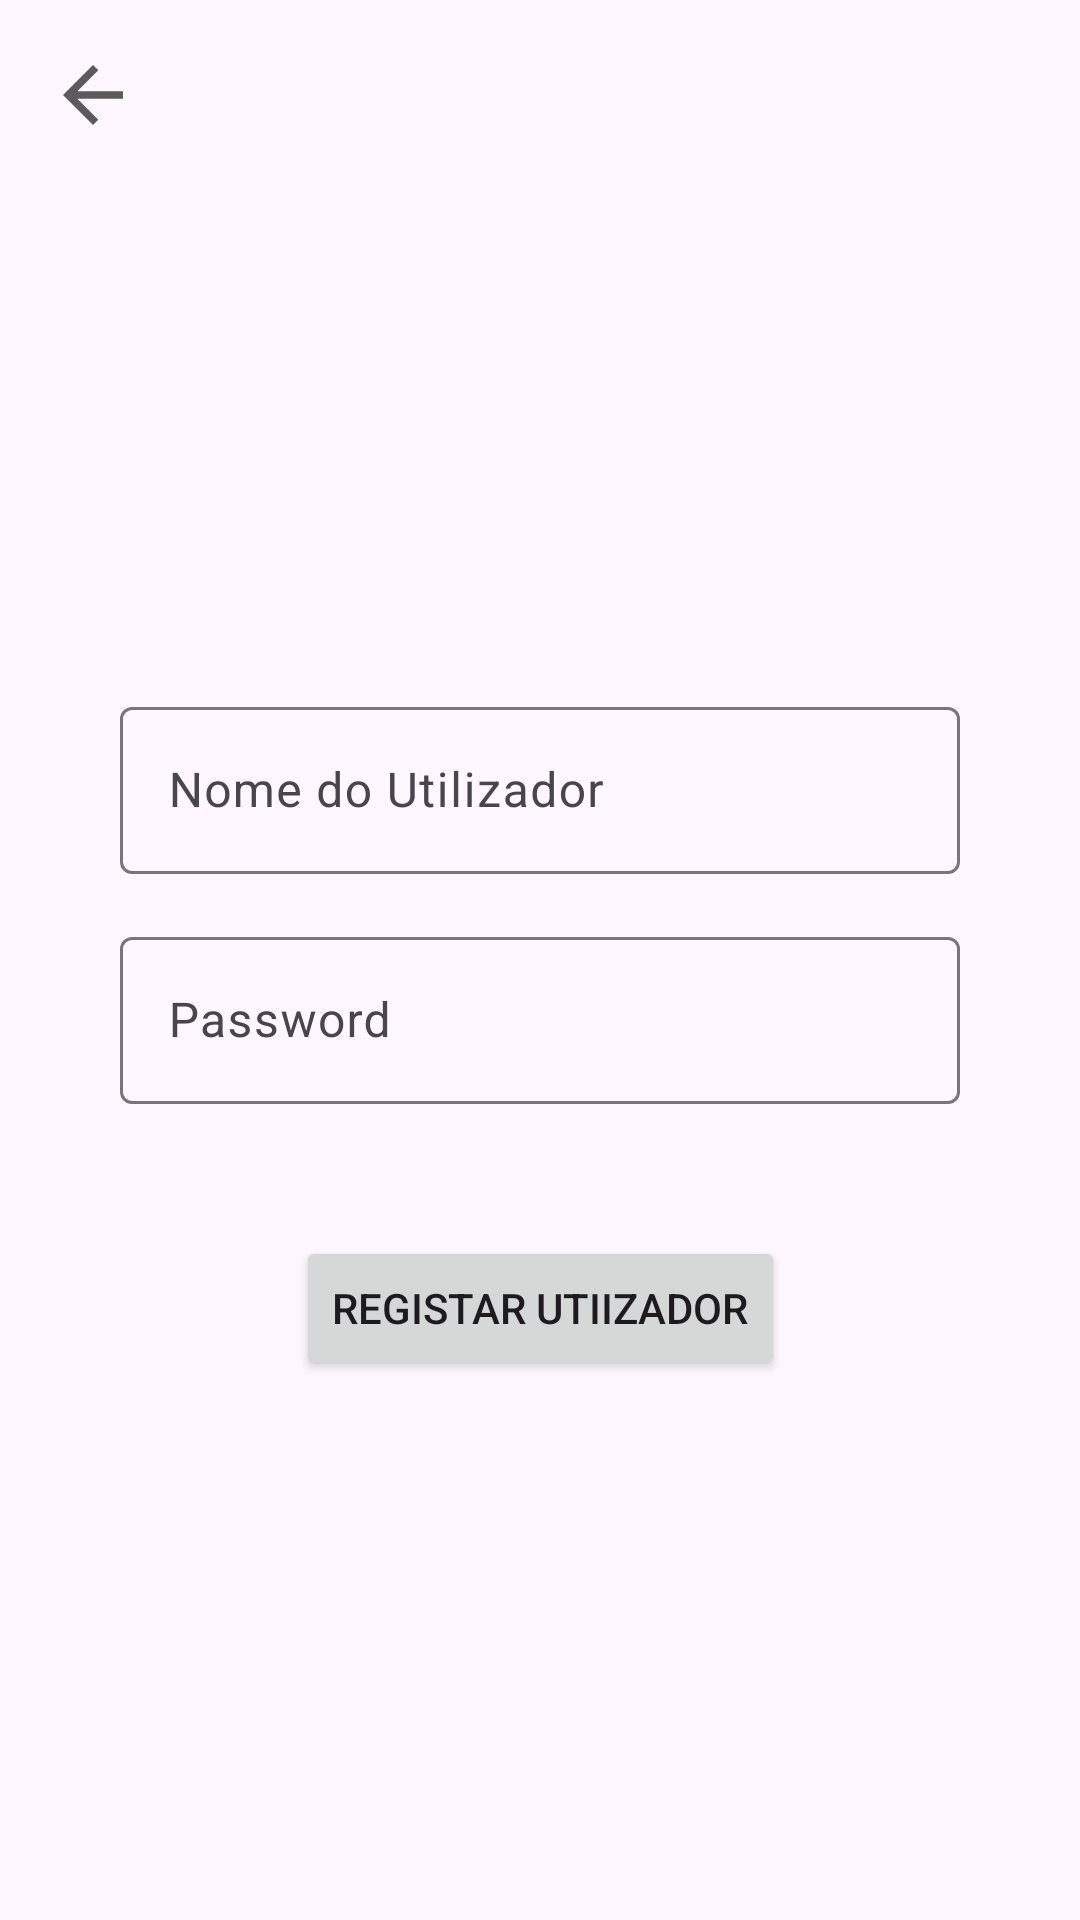

Named icons in this screenshot (1080px×1920px) and their bounding boxes, (x1, y1, x2, y2):
arrow back: (63, 65, 123, 125)
